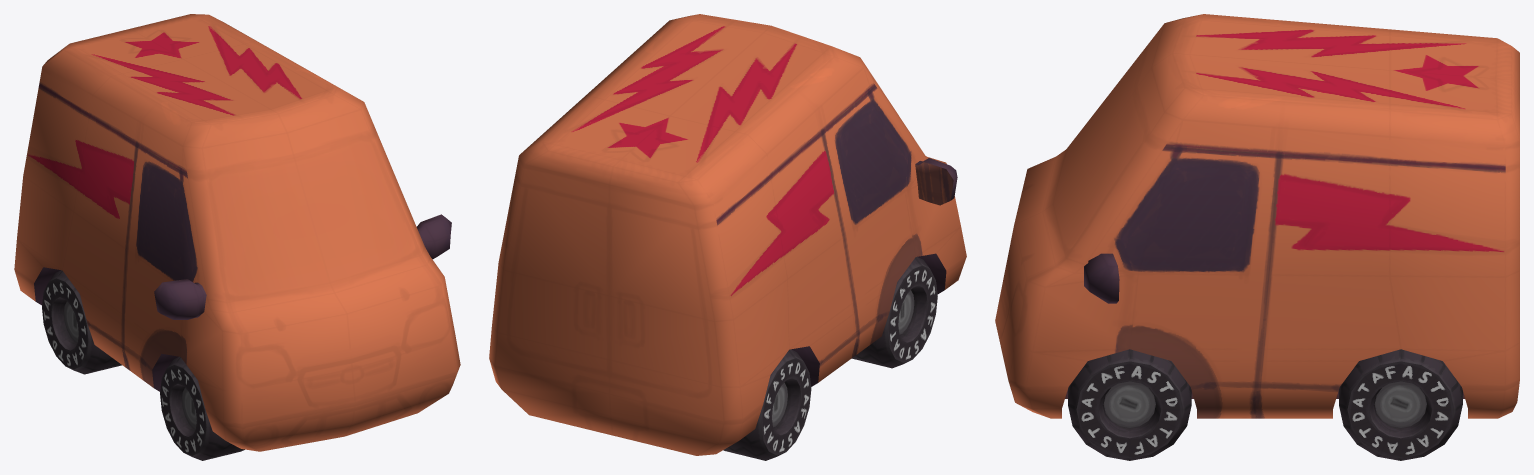
Rendered from Truck.fbx.
3 views of the same model, side by side, from view 1: azimuth 30°, elevation 25°; view 2: azimuth 150°, elevation 25°; view 3: azimuth 270°, elevation 25° (orthographic). The views are drawn at different scales.
Visible parts, largest first — view 1: Main Body, Front Wheels, Rear WHeels; view 2: Main Body, Rear WHeels, Front Wheels; view 3: Main Body, Rear WHeels, Front Wheels.
Part boxes in pixels (box(x1,y1,x2,y2)): Main Body: box(14, 14, 460, 451); Front Wheels: box(160, 356, 244, 460); Rear WHeels: box(42, 270, 121, 374); Main Body: box(489, 14, 966, 455); Rear WHeels: box(723, 349, 811, 460); Front Wheels: box(852, 257, 937, 368); Main Body: box(995, 14, 1519, 418); Rear WHeels: box(1339, 349, 1462, 460); Front Wheels: box(1068, 349, 1191, 460).
Bounding box in the file's own units: 339 × 335 × 457.
Materials: 1 (1 with a texture image).
